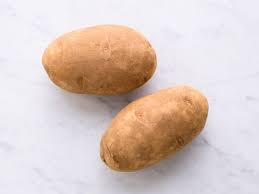potato: (103, 93, 206, 168), (34, 25, 156, 86)
